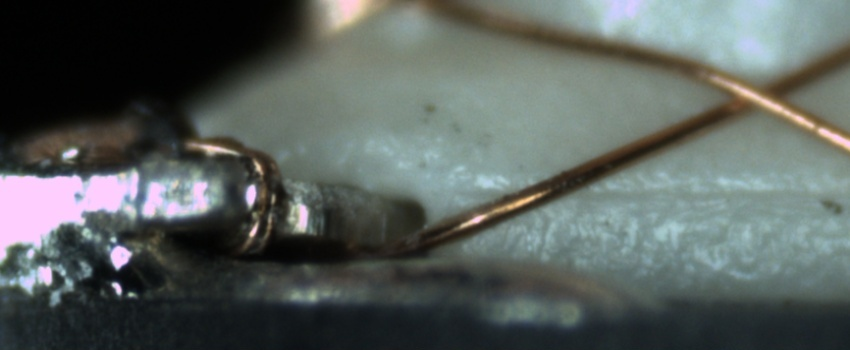CL: (702, 53, 817, 127)
DL: (465, 161, 850, 228)
TE: (172, 126, 291, 264)
